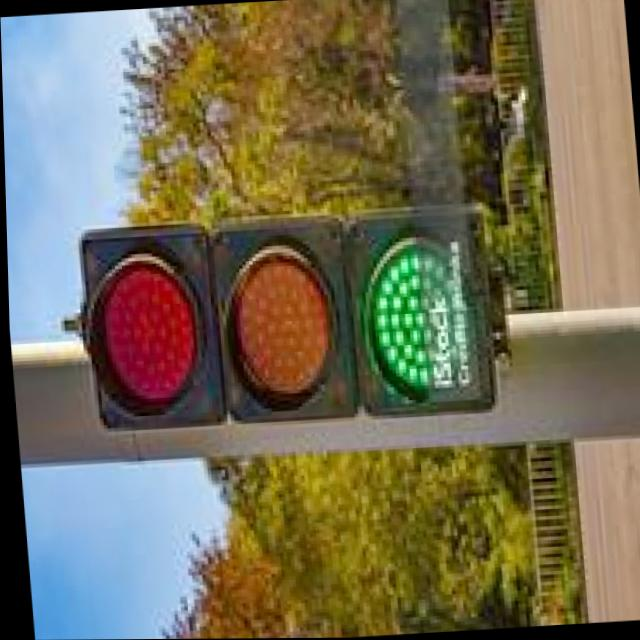green_light: (337, 174, 497, 441)
red_light: (74, 233, 234, 450)
yellow_light: (203, 202, 378, 443)
